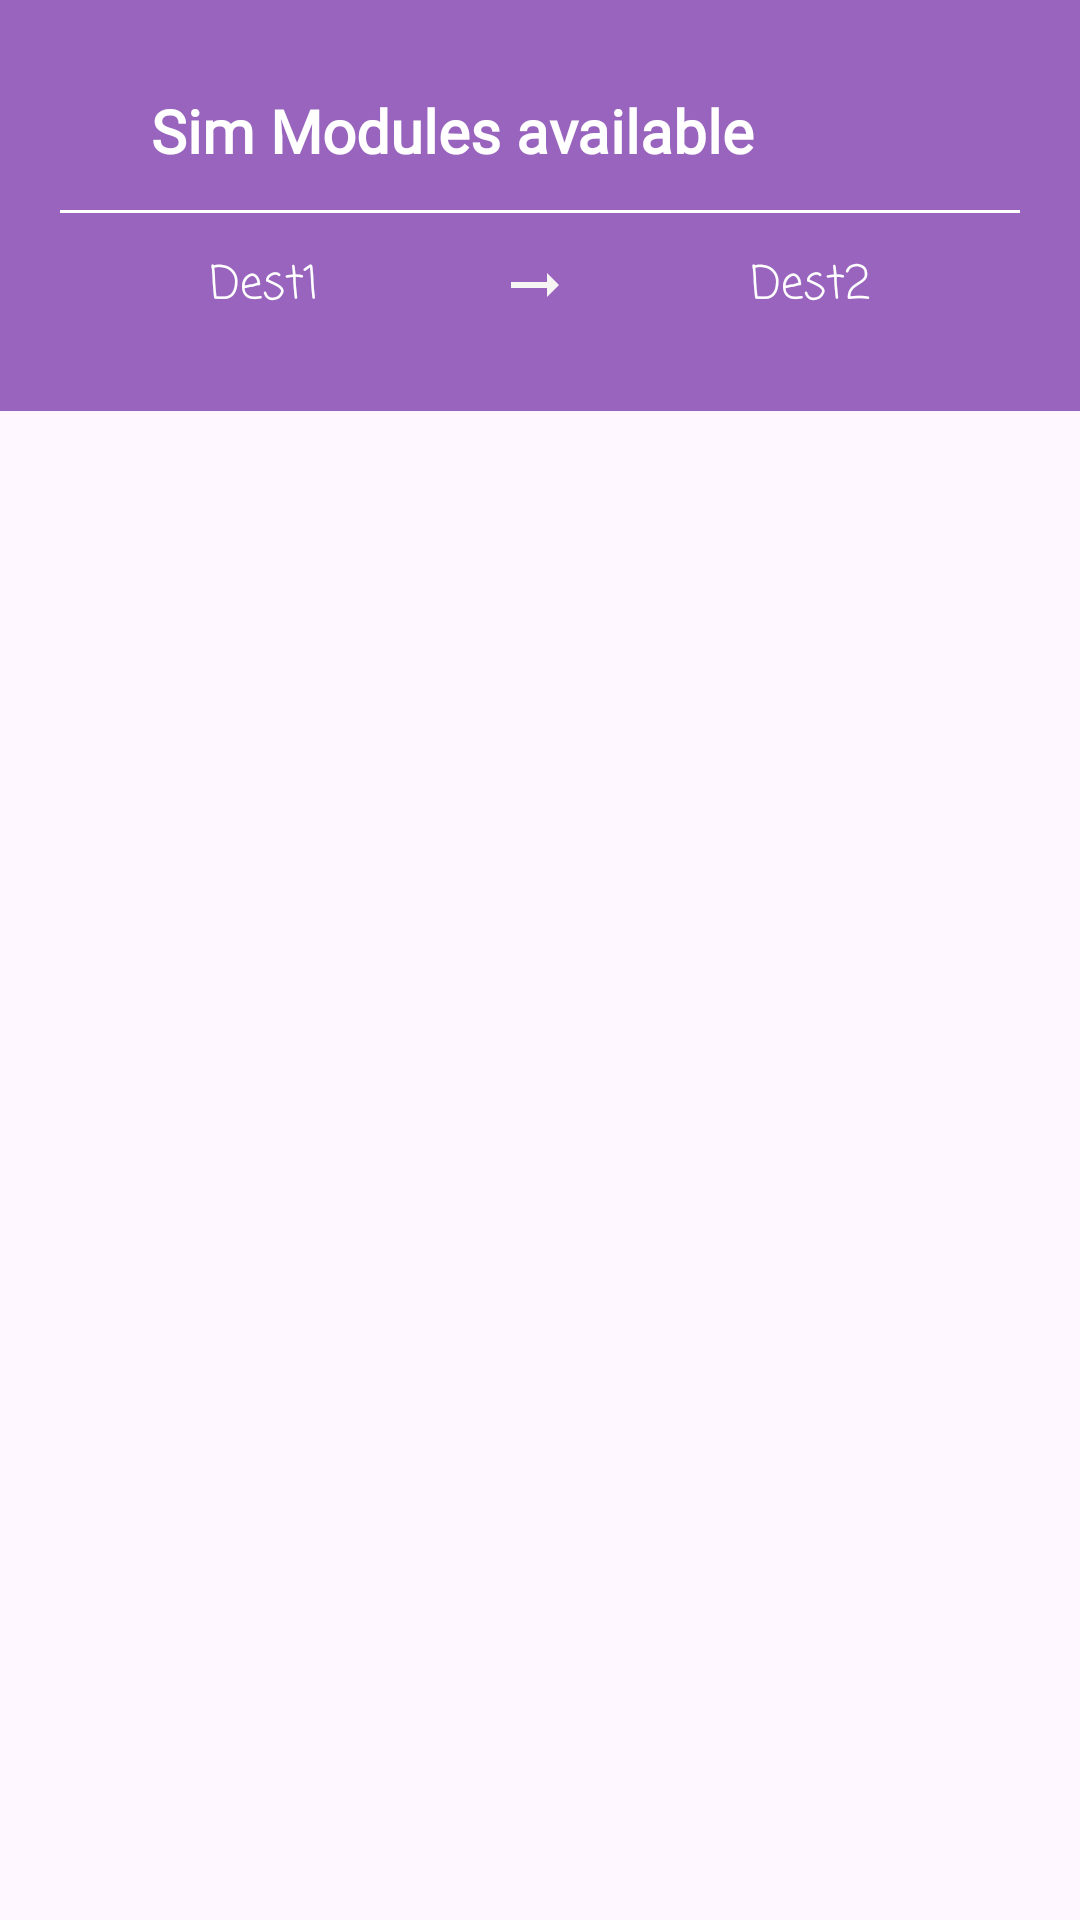

Where to tap for icons on this 1080*1920 app screen, as (x,y):
dest arrow: (535,285)
